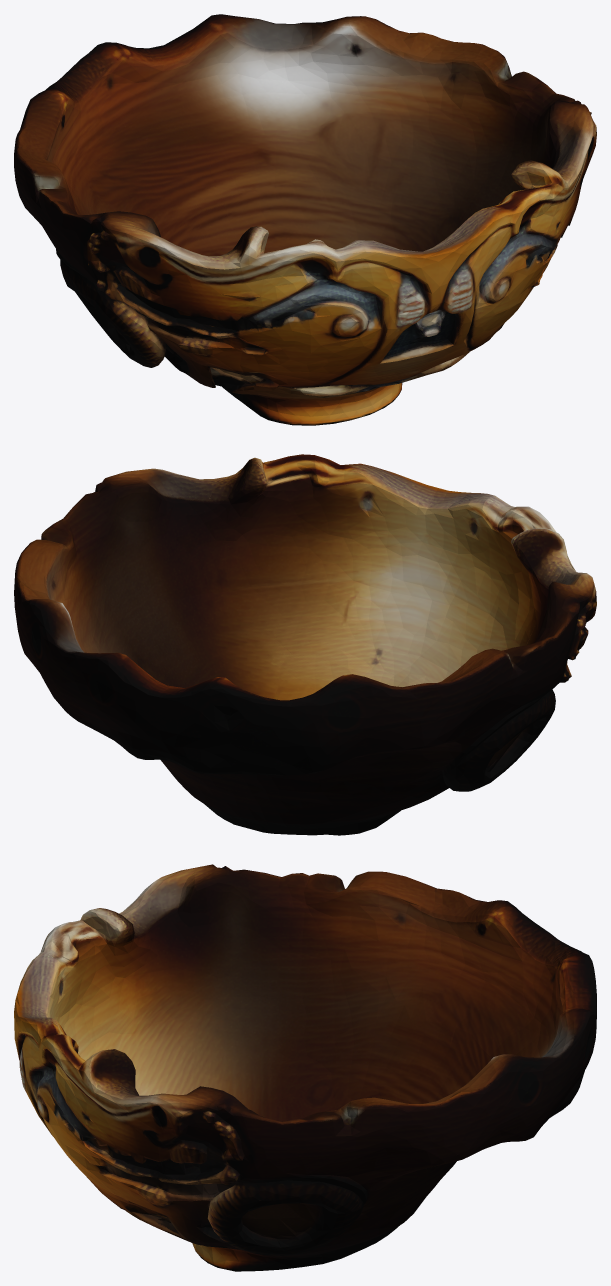
File: wooden-salad-bowl-horror.jpeg.glb
3 renders of one model, top to bottom at view 1: azimuth 30°, elevation 25°; view 2: azimuth 150°, elevation 25°; view 3: azimuth 270°, elevation 25°, orthographic. The views are drawn at different scales.
Visible parts, largest first — view 1: world; view 2: world; view 3: world.
Boxes of the visible parts, box(x1,y1,x2,y2) form: world: box(14, 14, 596, 425); world: box(14, 454, 596, 835); world: box(14, 864, 596, 1271).
Size of the model in its own units: 1 by 0.495 by 0.9983.
1 material, 1 textured.
